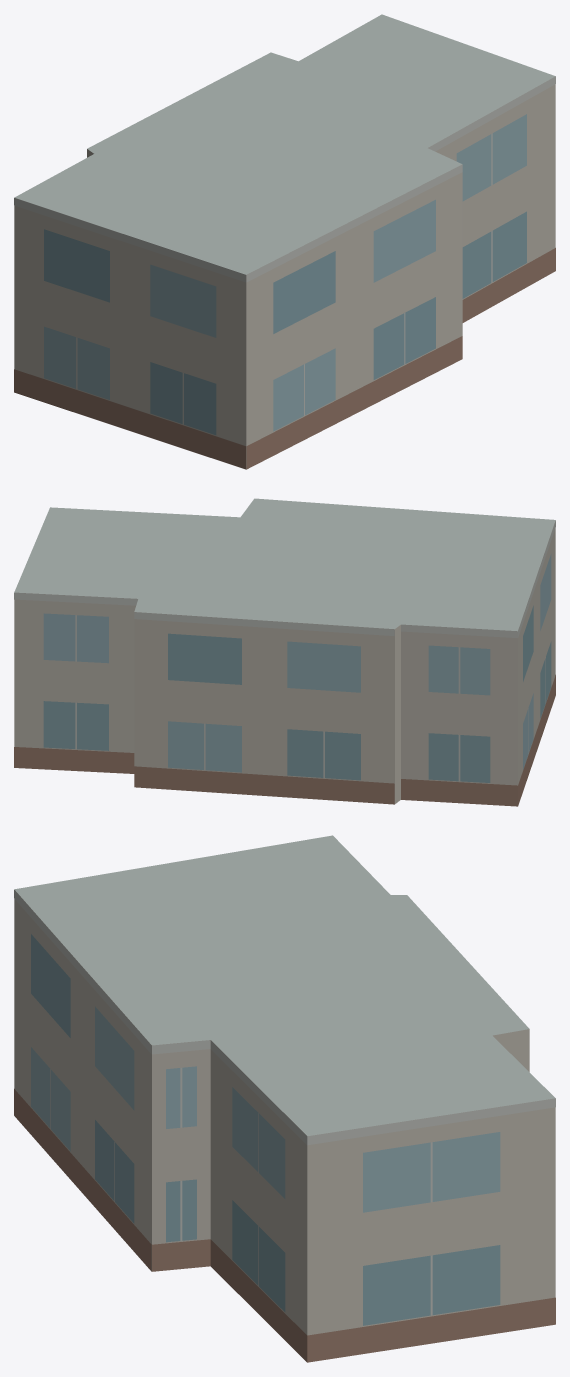
The model's file is survey-upis-32843114.glb.
3 renders of one model, top to bottom at view 1: azimuth 30°, elevation 25°; view 2: azimuth 150°, elevation 25°; view 3: azimuth 270°, elevation 25°, orthographic. The views are drawn at different scales.
Parts seen in each view (by area): view 1: survey-upis-32843114.tmp; view 2: survey-upis-32843114.tmp; view 3: survey-upis-32843114.tmp.
Boxes of the visible parts, x1=… form: survey-upis-32843114.tmp: x1=14, y1=14, x2=555, y2=469; survey-upis-32843114.tmp: x1=14, y1=498, x2=555, y2=806; survey-upis-32843114.tmp: x1=14, y1=835, x2=555, y2=1362.
Bounding box in the file's own units: 17.41 × 6.1 × 13.24.
